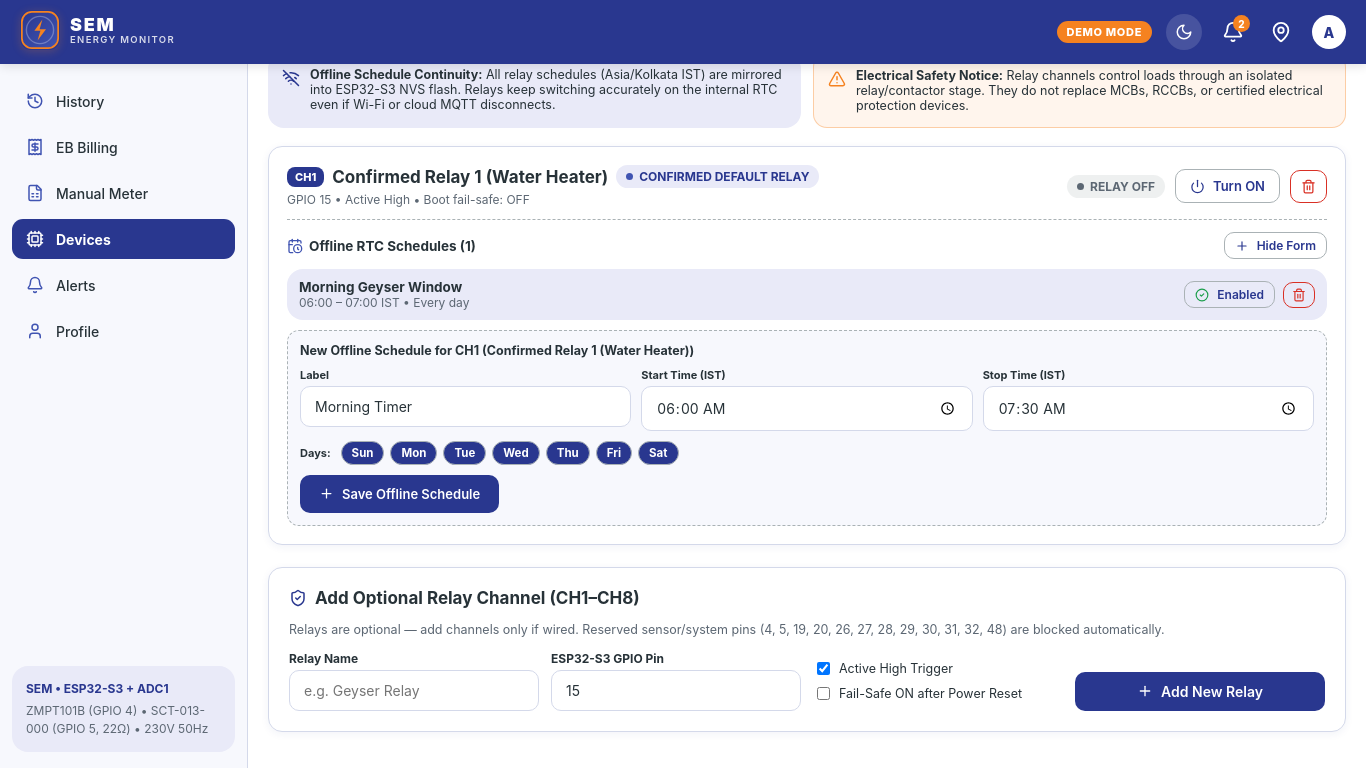
Phase 10 Web IoT Controls: FOTA, Multi-Relay Offline Schedules, and LEDs › supports confirmed Relay CH1, reserved GPIO validation, adding CH2, and offline IST schedules
(page scrolled)
Expected: the text "CONFIRMED DEFAULT RELAY" is shown, [616,165,820,188]
// Reject reserved GPIO 4 (ZMPT101B ADC)
Type "Invalid Pin Load" into the field labelled "Relay Name".
click(414, 690); type("Invalid Pin Load")  # box [289,670,539,711]
Replace the text in the number field labelled "ESP32-S3 GPIO Pin" with "4" at x=676, y=690, box [551,670,801,711]
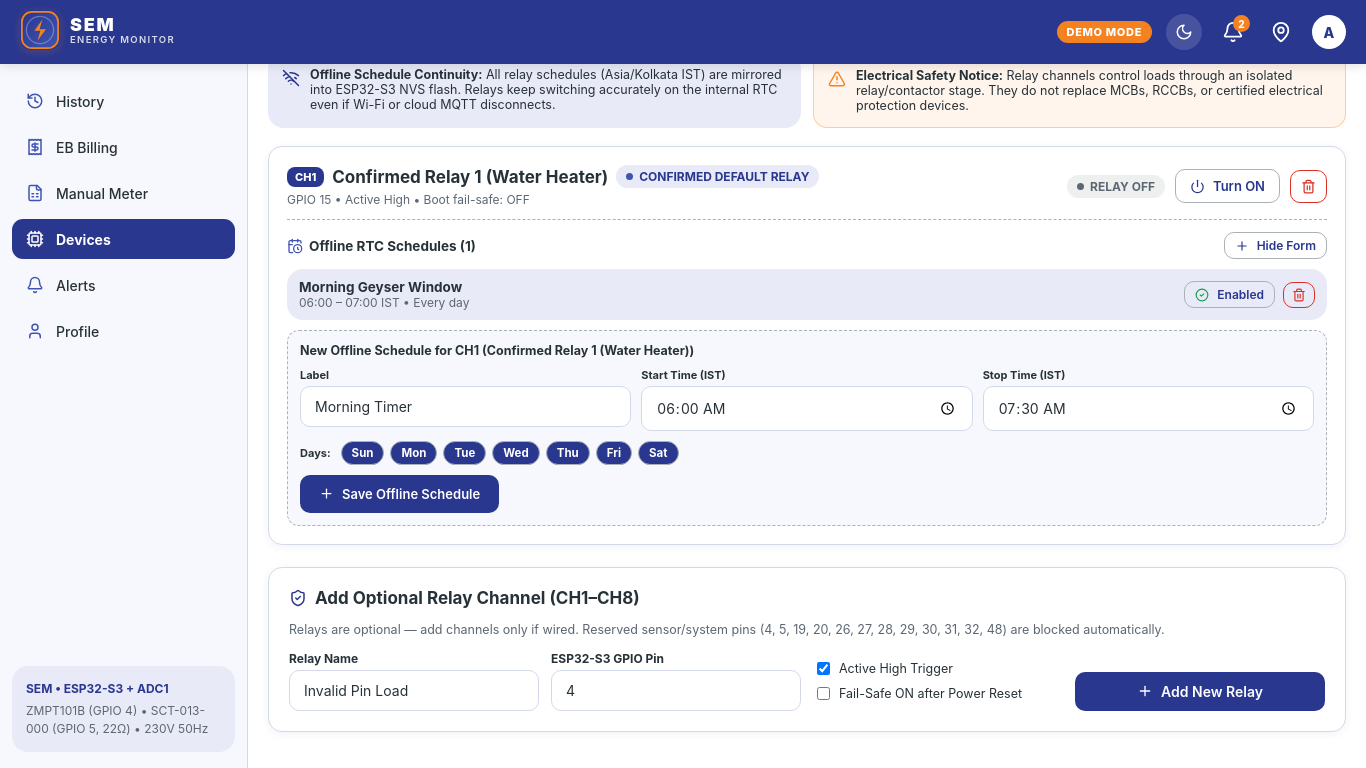
Click the button "Add New Relay".
click(1200, 691)  # box [1075,672,1325,711]
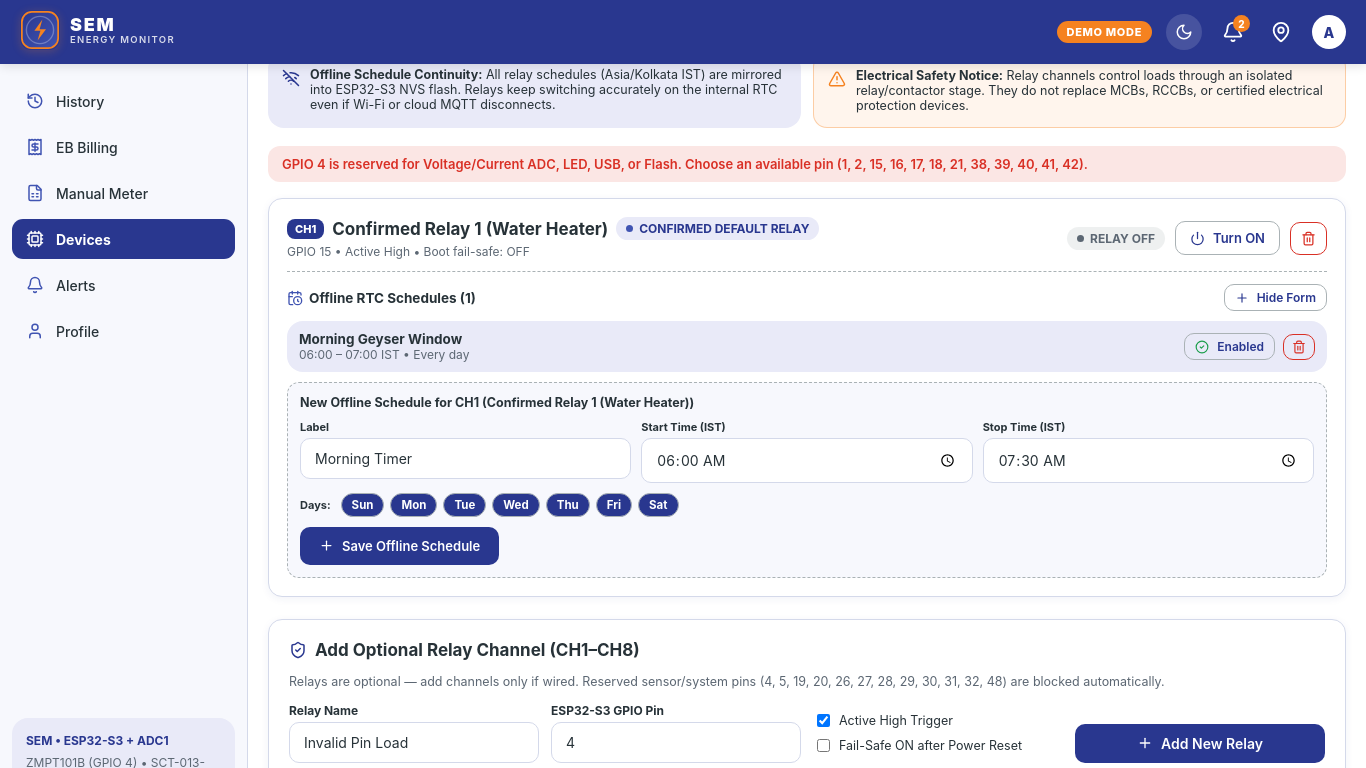
Expected: the text "reserved for Voltage/Current ADC" is shown, [282,156,1088,172]
// Add valid relay CH2 on safe GPIO 16 (GPIO 4 & 5 reserved for ADC)
Replace the text in the field labelled "Relay Name" with "Geyser Contactor" at x=414, y=742, box [289,722,539,763]
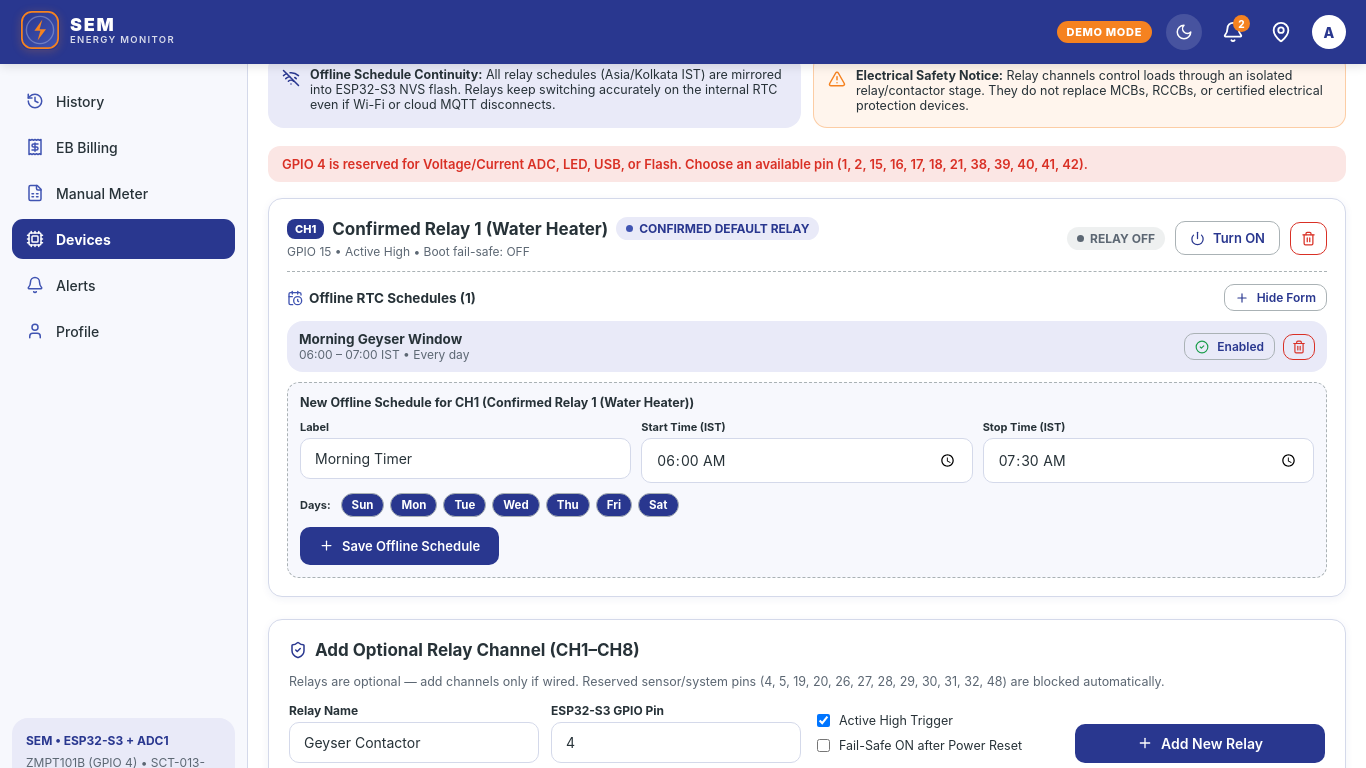
Replace the text in the number field labelled "ESP32-S3 GPIO Pin" with "16" at x=676, y=742, box [551,722,801,763]
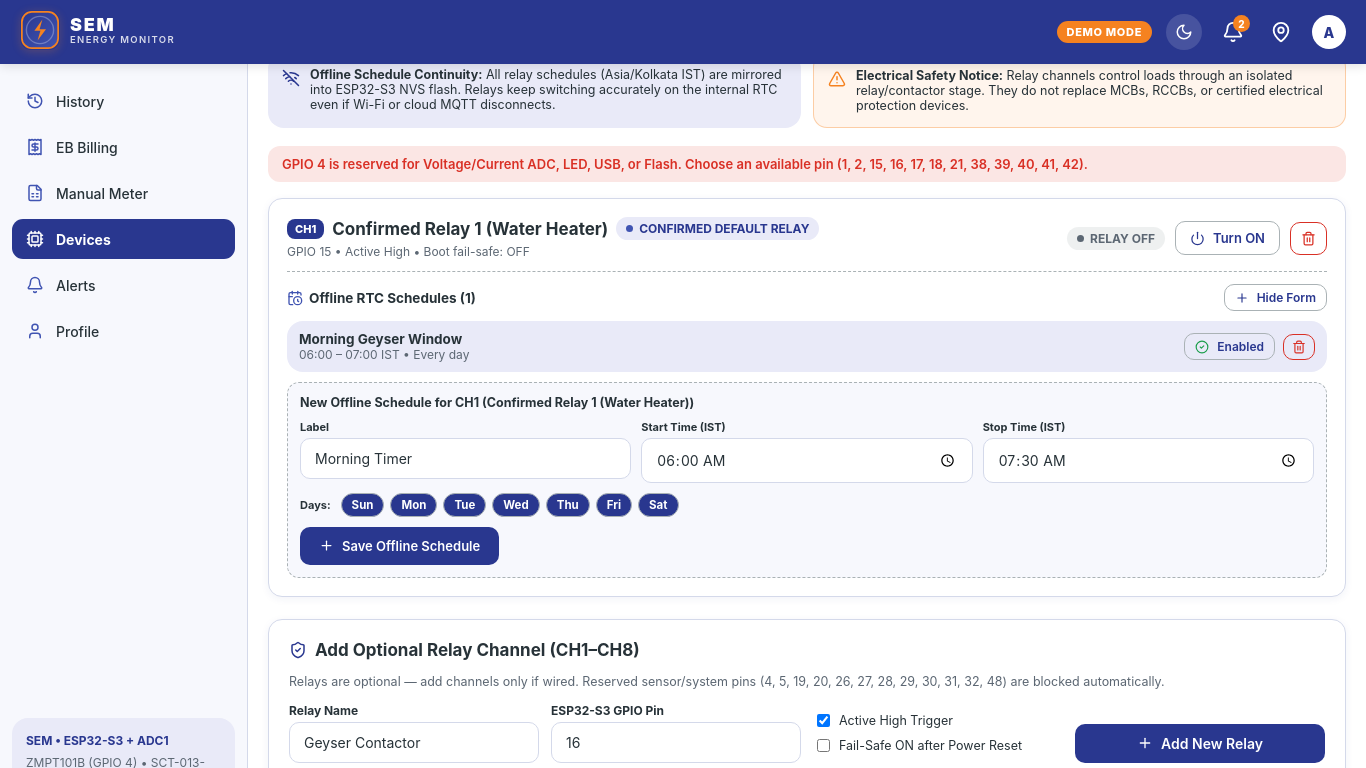
Click the button "Add New Relay".
click(1200, 743)  # box [1075,724,1325,763]
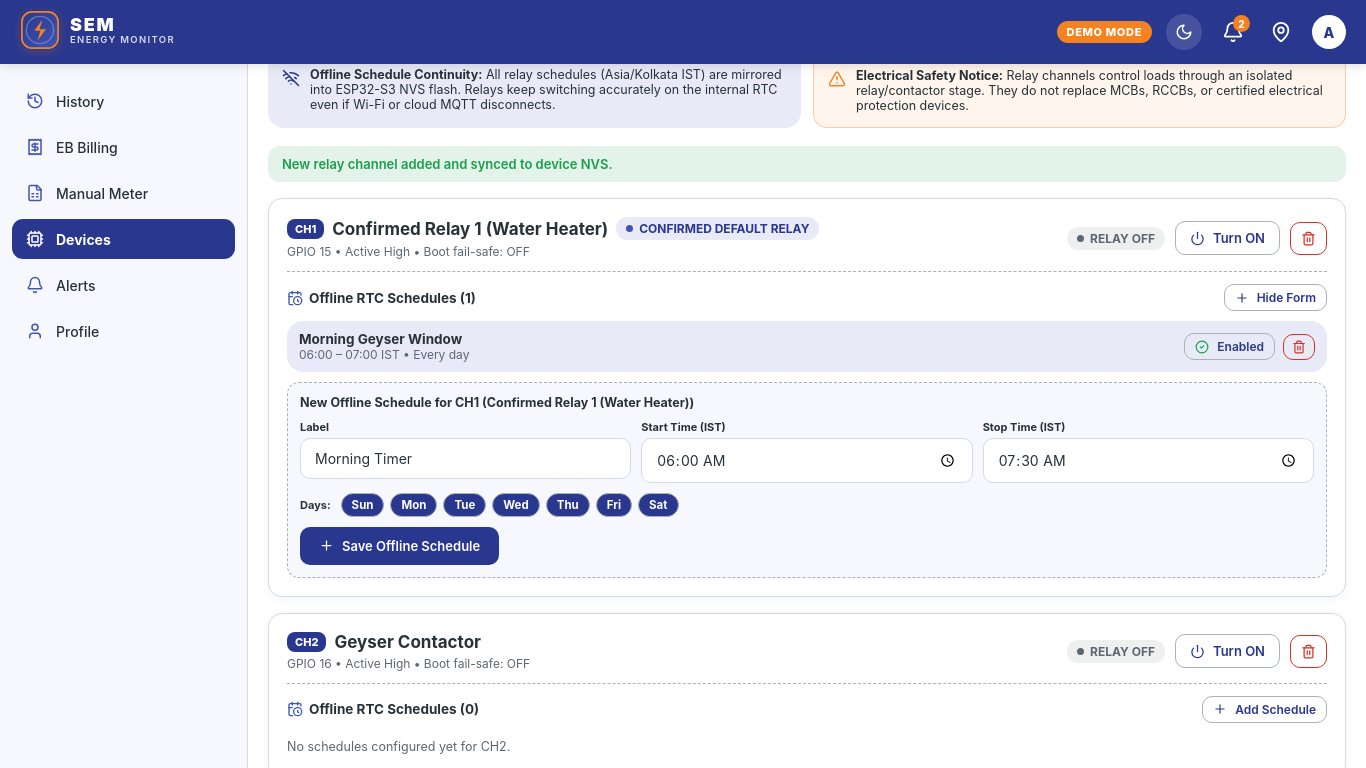
Expected: the heading "Geyser Contactor" is shown, [334,632,481,652]
Expected: the text "CH2" is shown, [287,632,326,652]
// Save offline schedule on CH1
Click the button "Save Offline Schedule".
click(400, 546)  # box [300,527,499,565]
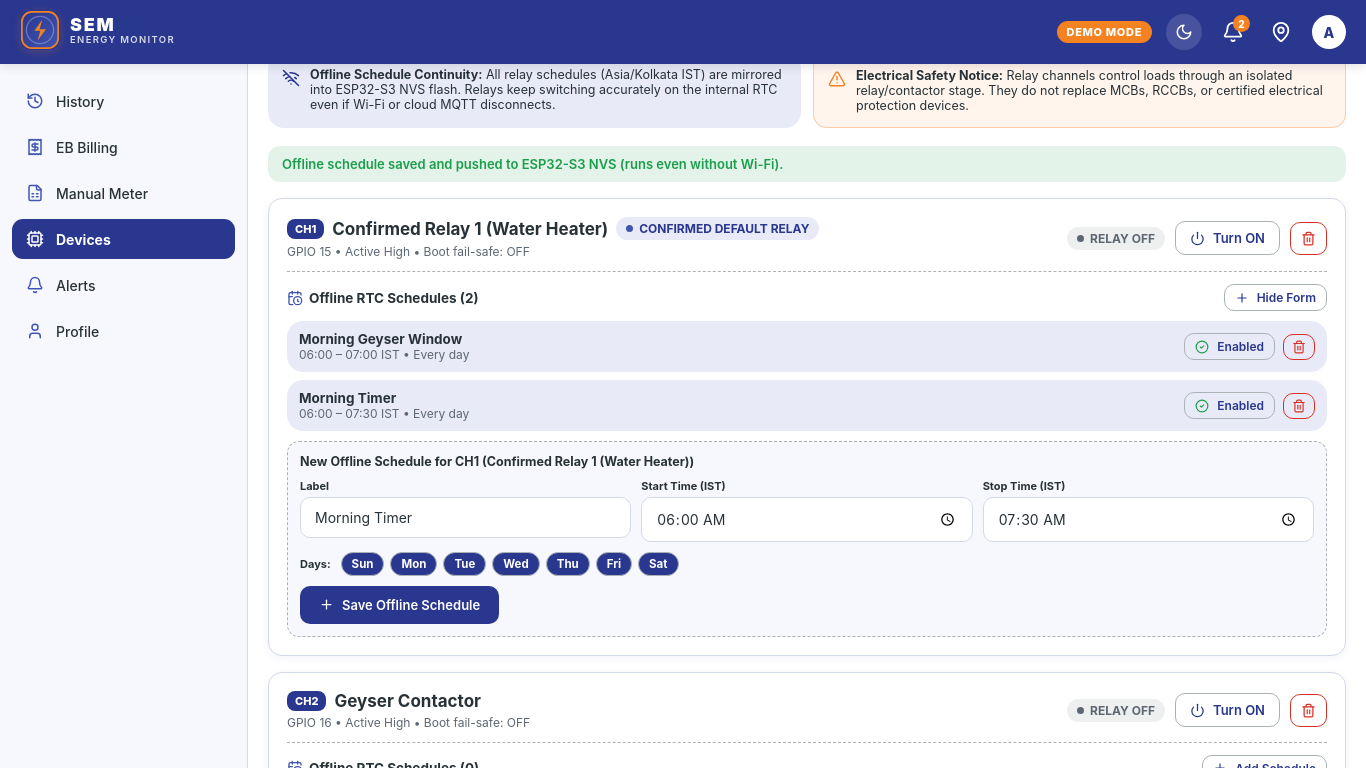
Expected: the text "Offline schedule saved and pushed to ESP32-S3 NVS" is shown, [282,156,784,172]
